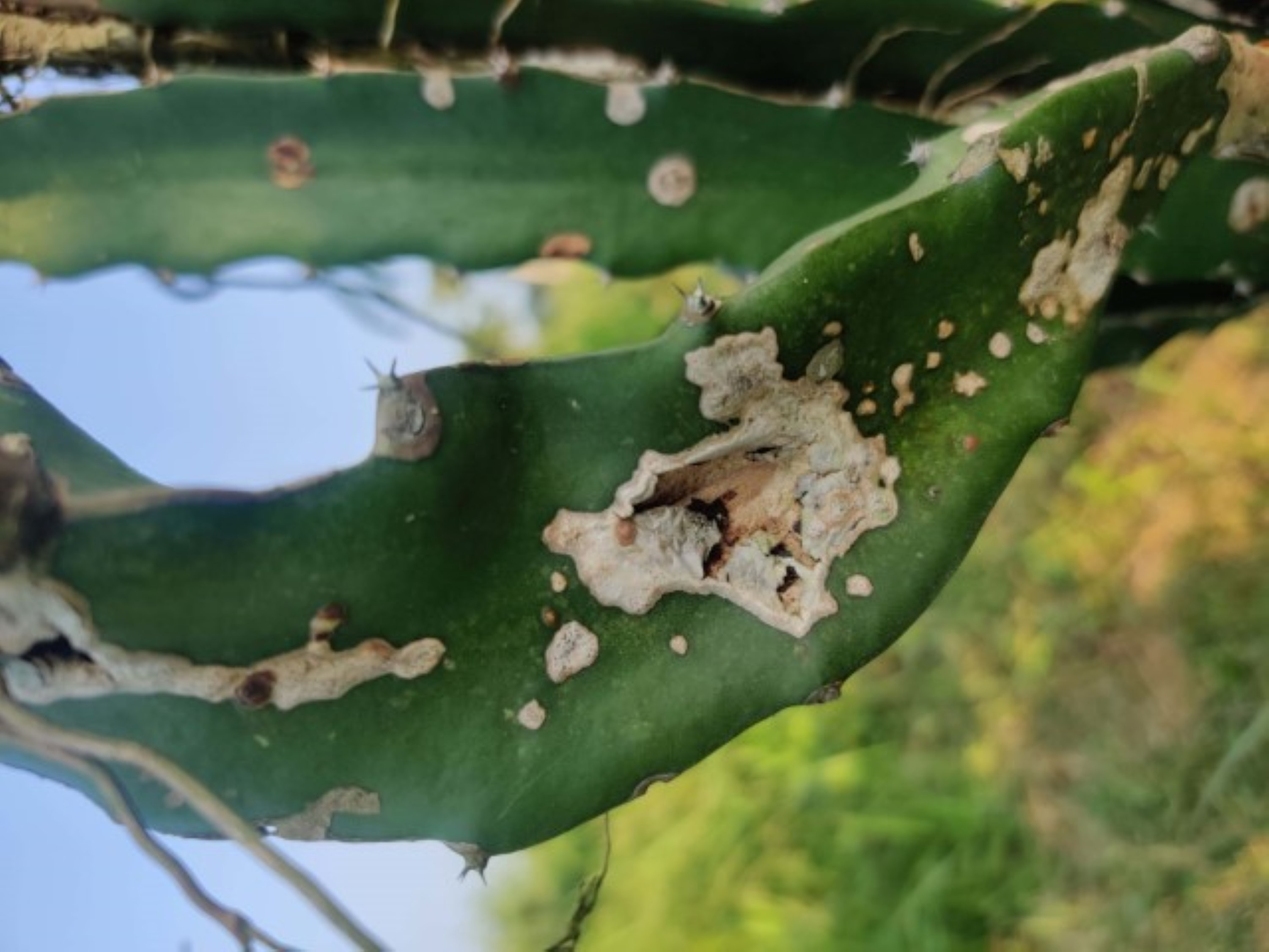stemcanker: (32, 36, 1267, 827)
